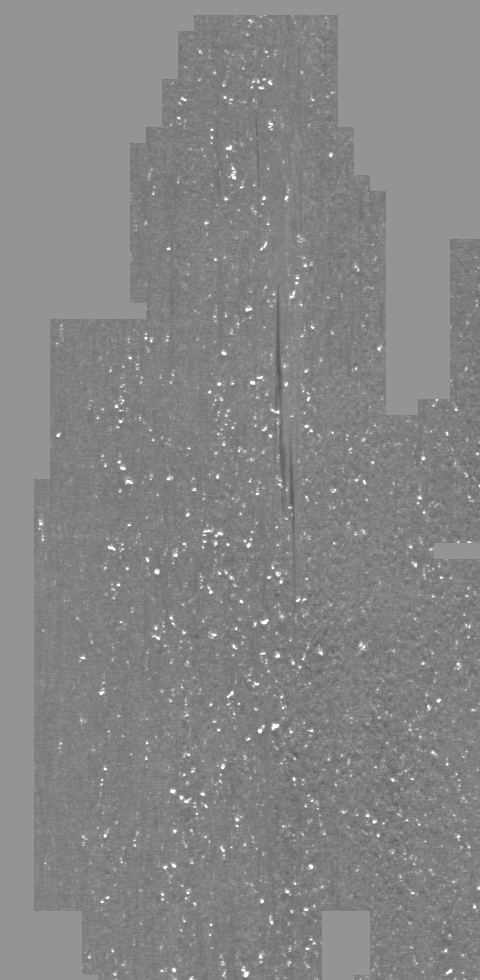oxl: (35, 10, 445, 970)
